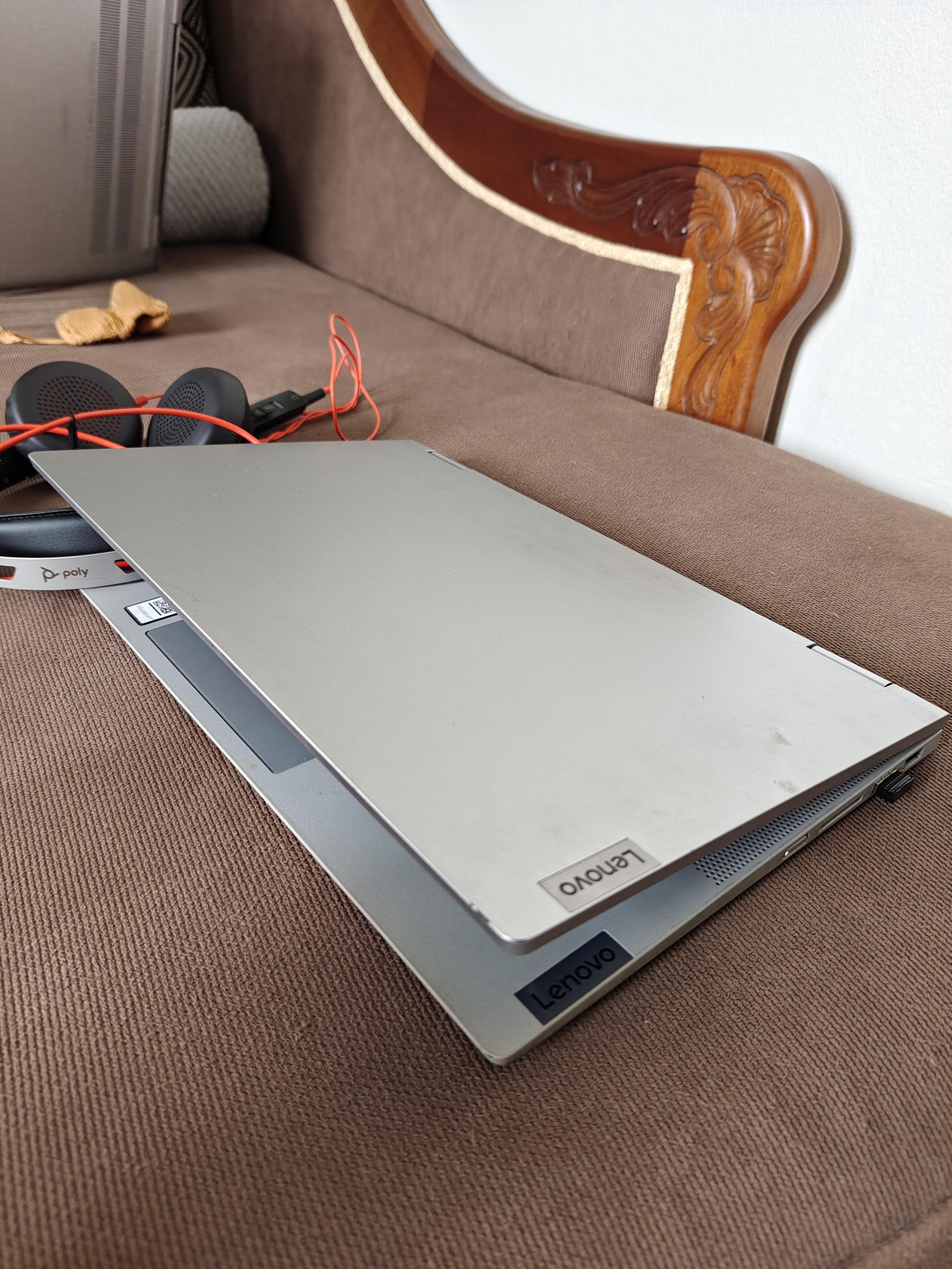laptop: (27, 440, 951, 1067)
